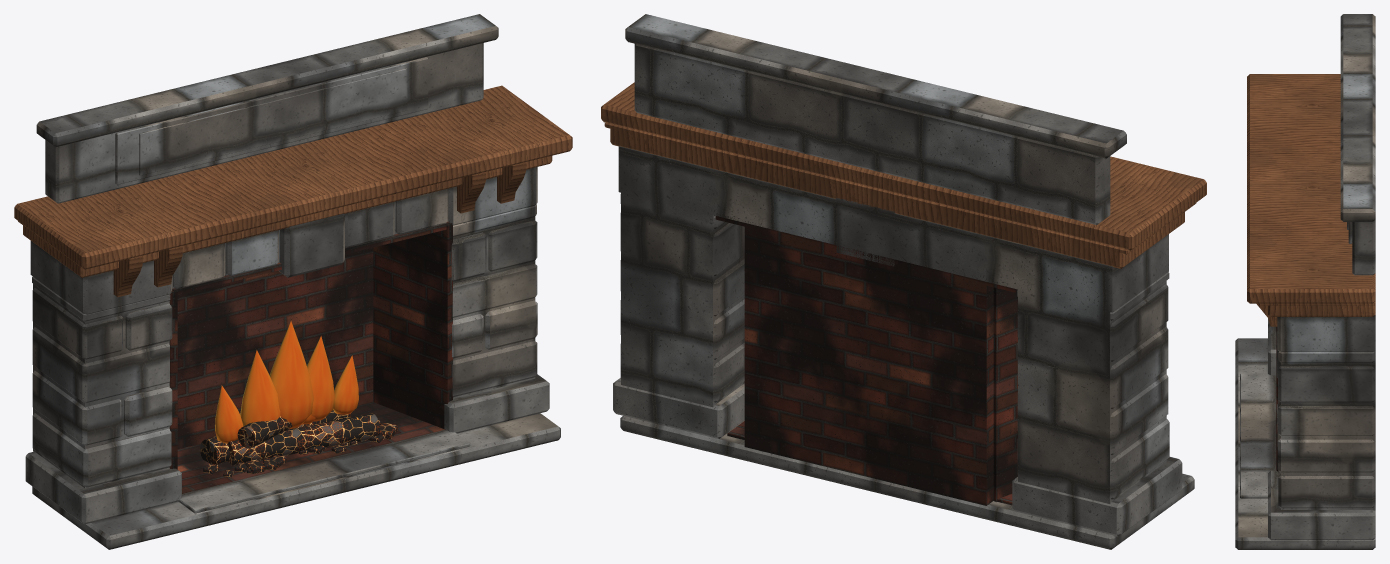
File: lib_fireplace.obj
The picture shows the model from 3 angles, left to right: view 1: azimuth 30°, elevation 25°; view 2: azimuth 150°, elevation 25°; view 3: azimuth 270°, elevation 25°; orthographic projection. The views are drawn at different scales.
Parts seen in each view (by area): view 1: lib_fireplace_stone, lib_fireplace_wood_dark, lib_fireplace_brick_soot, lib_fireplace_flame_glow, lib_fireplace_embers_glow; view 2: lib_fireplace_stone, lib_fireplace_brick_soot, lib_fireplace_wood_dark; view 3: lib_fireplace_stone, lib_fireplace_wood_dark, lib_fireplace_brick_soot.
Part boxes in pixels (x1,y1,x2,y2): lib_fireplace_stone: (25, 14, 560, 549); lib_fireplace_wood_dark: (14, 85, 572, 297); lib_fireplace_brick_soot: (169, 221, 452, 493); lib_fireplace_flame_glow: (215, 321, 358, 443); lib_fireplace_embers_glow: (200, 410, 397, 477); lib_fireplace_stone: (613, 14, 1194, 549); lib_fireplace_brick_soot: (715, 213, 1017, 505); lib_fireplace_wood_dark: (601, 82, 1206, 268); lib_fireplace_stone: (1235, 14, 1375, 549); lib_fireplace_wood_dark: (1247, 74, 1375, 326); lib_fireplace_brick_soot: (1276, 326, 1278, 471).
Bounding box in the file's own units: 2.2 × 1.6 × 0.6.
5 materials, 5 textured.
